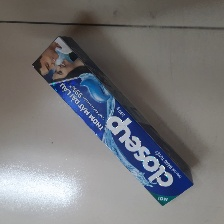CloseUp Tuyet: (32, 35, 195, 207)
